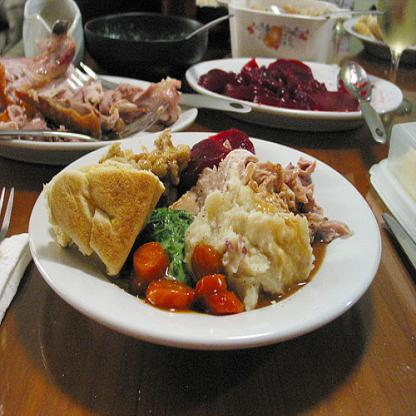diningtable: (0, 32, 415, 413)
